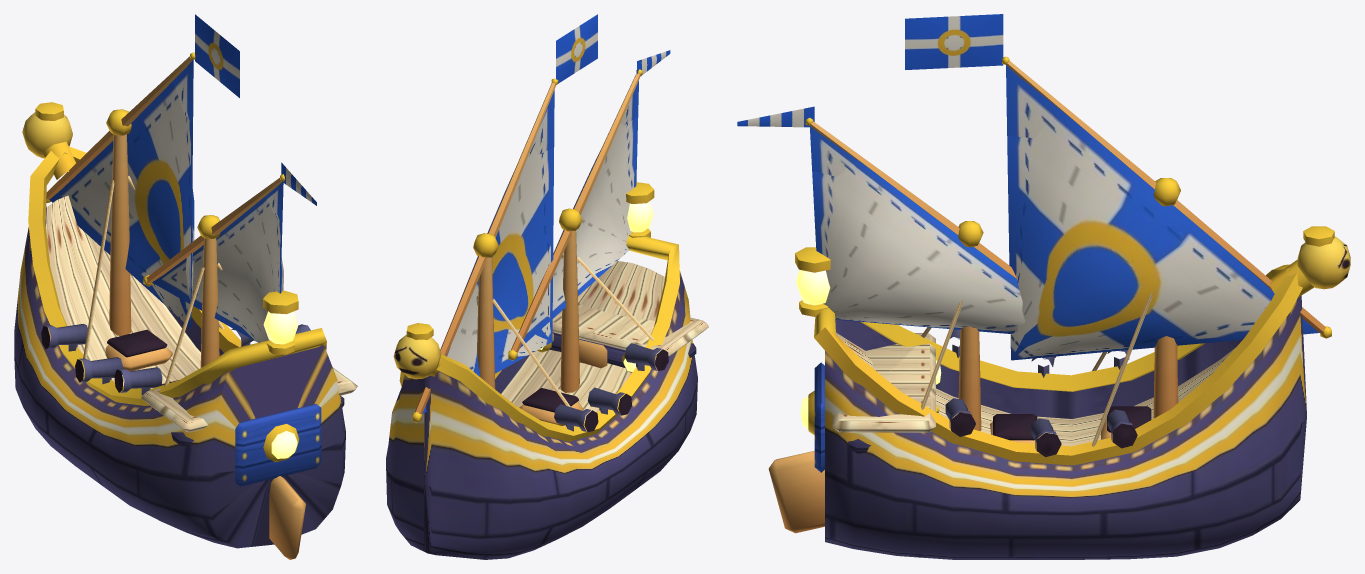
The model's file is enemy_skirmisher.glb.
3 renders of one model, left to right at view 1: azimuth 30°, elevation 25°; view 2: azimuth 150°, elevation 25°; view 3: azimuth 270°, elevation 25°, orthographic. The views are drawn at different scales.
Parts seen in each view (by area): view 1: Hull, Sail0_0, Rigging, Sail1_0, Guns0, Flag; view 2: Hull, Sail0_0, Rigging, Sail1_0, Guns0, Flag; view 3: Hull, Sail0_0, Sail1_0, Rigging, Flag, Guns0.
Part boxes in pixels (x1=…): Hull: x1=14, y1=102, x2=357, y2=559; Sail0_0: x1=49, y1=60, x2=194, y2=328; Rigging: x1=46, y1=52, x2=284, y2=386; Sail1_0: x1=152, y1=182, x2=283, y2=342; Guns0: x1=41, y1=324, x2=310, y2=394; Flag: x1=195, y1=14, x2=316, y2=205; Hull: x1=386, y1=182, x2=708, y2=559; Sail0_0: x1=422, y1=90, x2=554, y2=413; Rigging: x1=412, y1=69, x2=654, y2=425; Sail1_0: x1=520, y1=80, x2=638, y2=347; Guns0: x1=554, y1=343, x2=668, y2=431; Flag: x1=556, y1=14, x2=670, y2=83; Hull: x1=768, y1=226, x2=1350, y2=559; Sail0_0: x1=1006, y1=65, x2=1318, y2=360; Sail1_0: x1=809, y1=126, x2=1025, y2=333; Rigging: x1=805, y1=56, x2=1331, y2=446; Flag: x1=737, y1=14, x2=1003, y2=127; Guns0: x1=945, y1=329, x2=1137, y2=457.
Size of the model in its own units: 1.01 by 2.22 by 2.38.
Materials: 8 (8 with a texture image).
